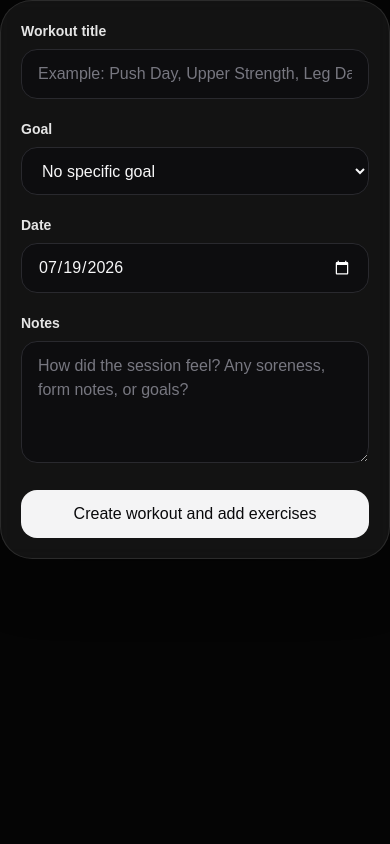
Test: NewWorkoutForm › announces and focuses safe failures
Type "Push Day" into the field labelled "Workout title". click: (195, 74)
box: [21,49,369,99]
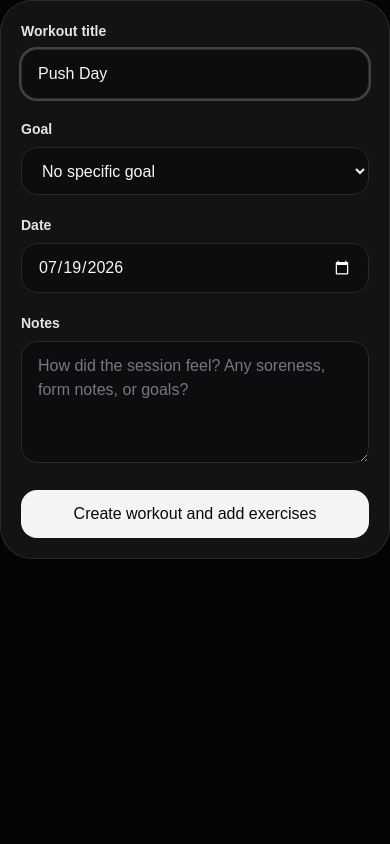
Click the button "Create workout and add exercises". click: (195, 514)
box: [21,490,369,538]
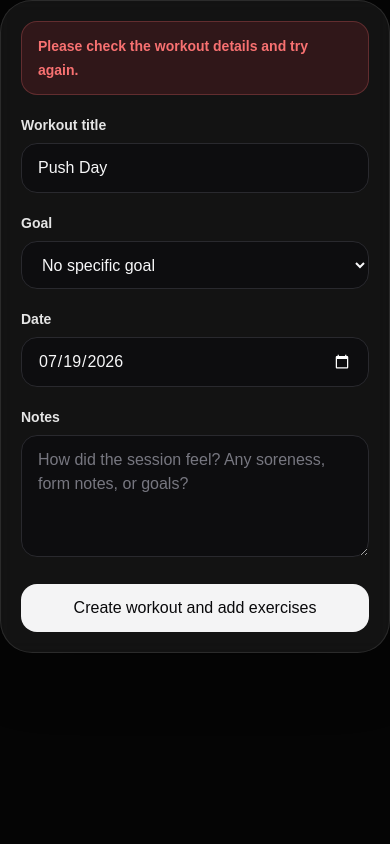
Result: the message reads "Please check the workout details and try again." at [38,38,308,78]
